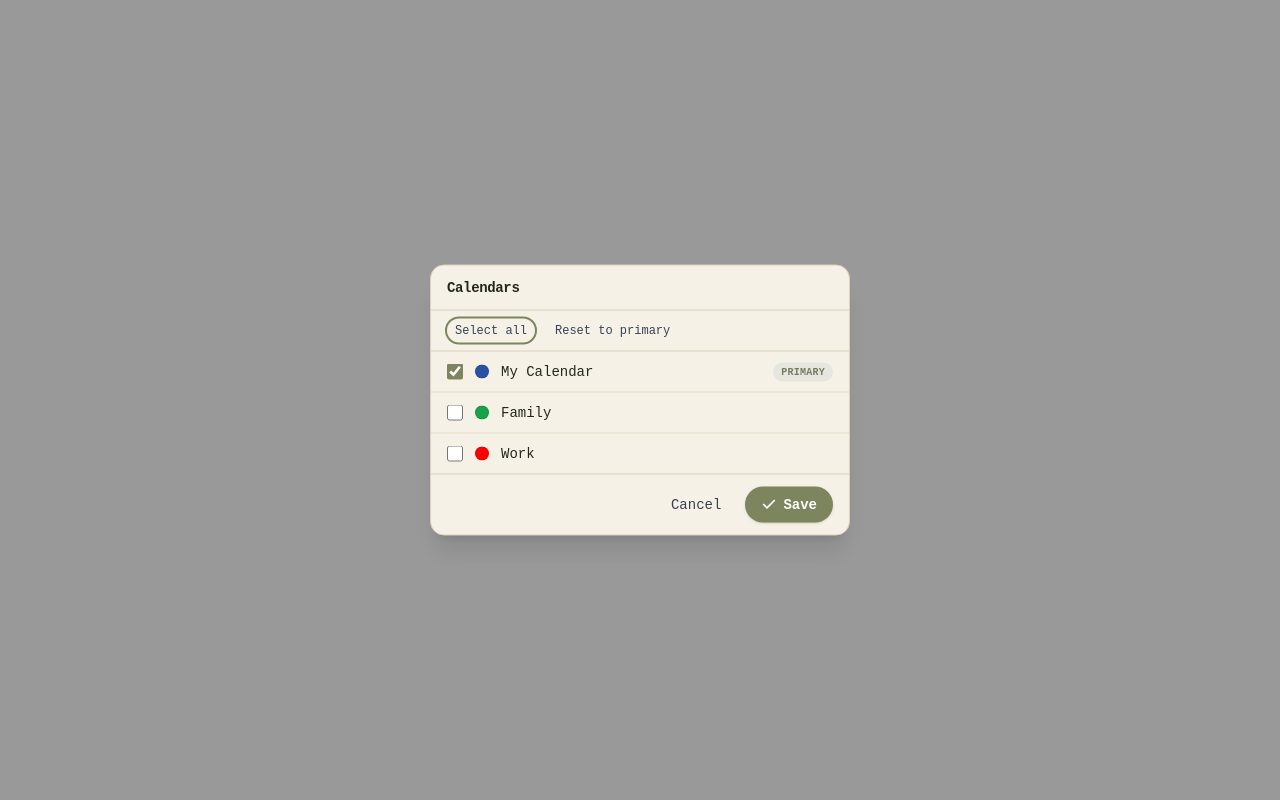
Test case: SourceCalendarPicker › Select all checks every calendar
The image size is (1280, 800).
Click the button "Select all": (491, 330) [447,318,535,342]
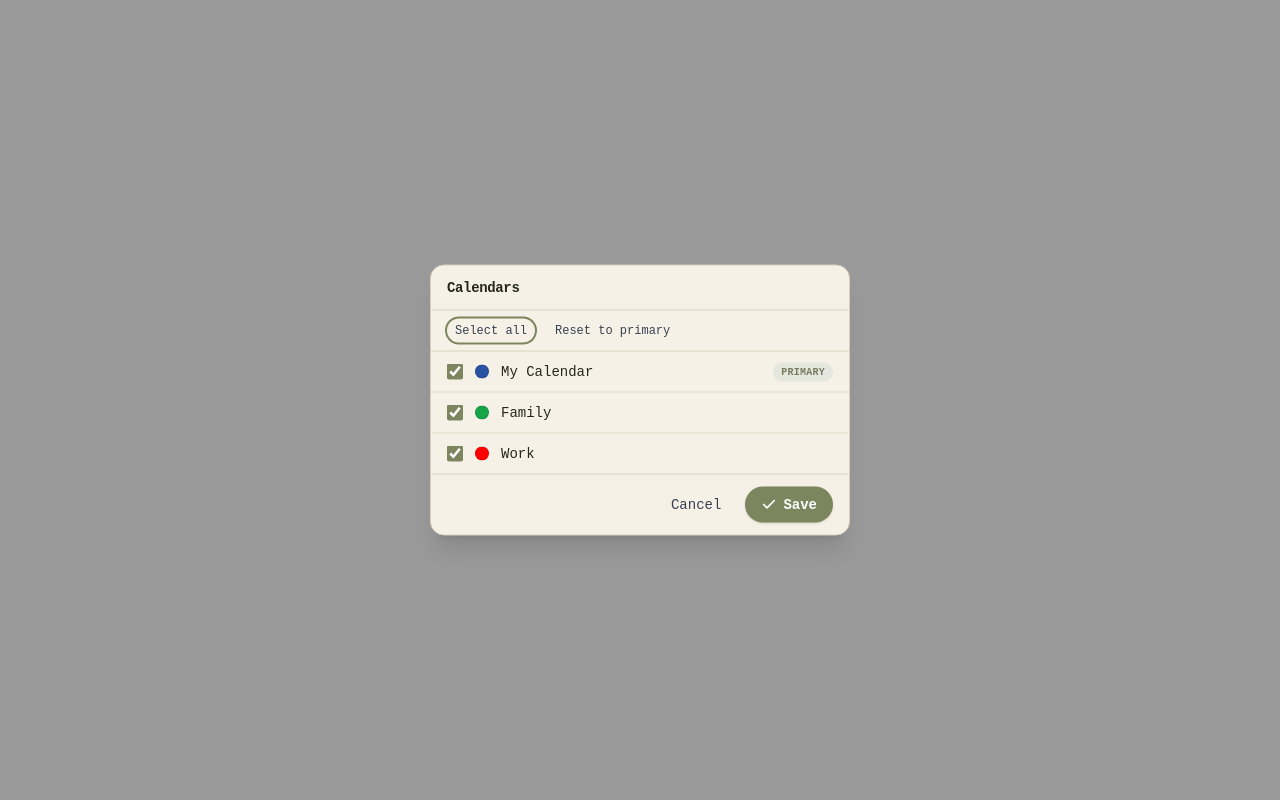
Expected: the checkbox labelled "My Calendar Primary" is checked, [447,364,463,380]
Now the checkbox labelled "Family" is checked, box [447,404,463,420]
Now the checkbox labelled "Work" is checked, box [447,446,463,462]
